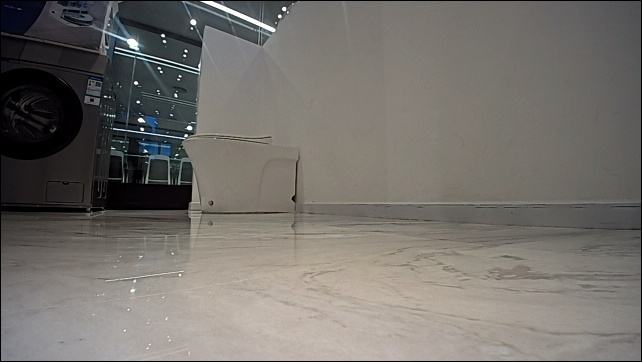toilet: (180, 131, 300, 215)
washing_machine: (0, 34, 120, 213)
